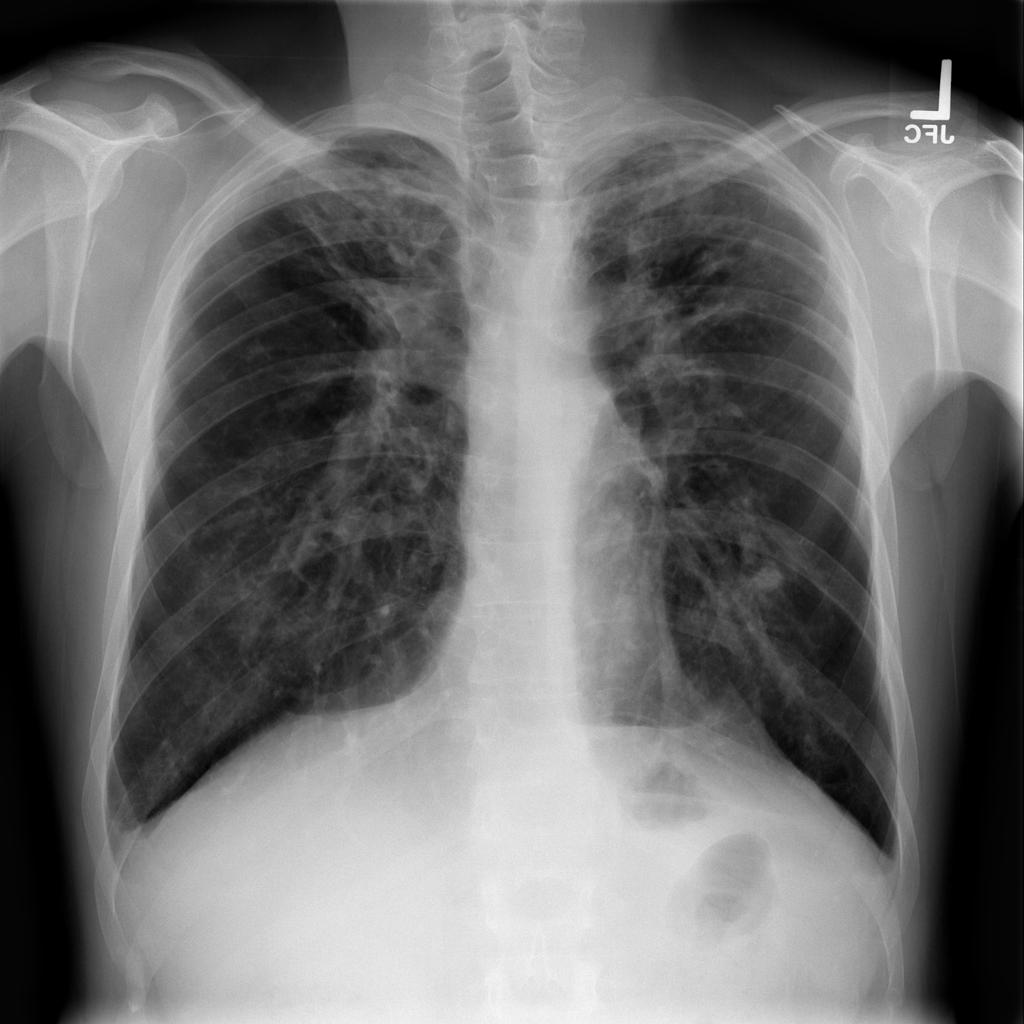nodule: (743, 552, 794, 603), (227, 326, 282, 373)
